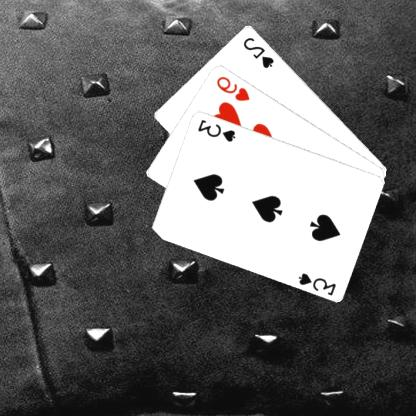2S: (242, 34, 277, 69)
3S: (197, 116, 238, 144), (297, 270, 339, 296)
9H: (215, 73, 253, 102)
